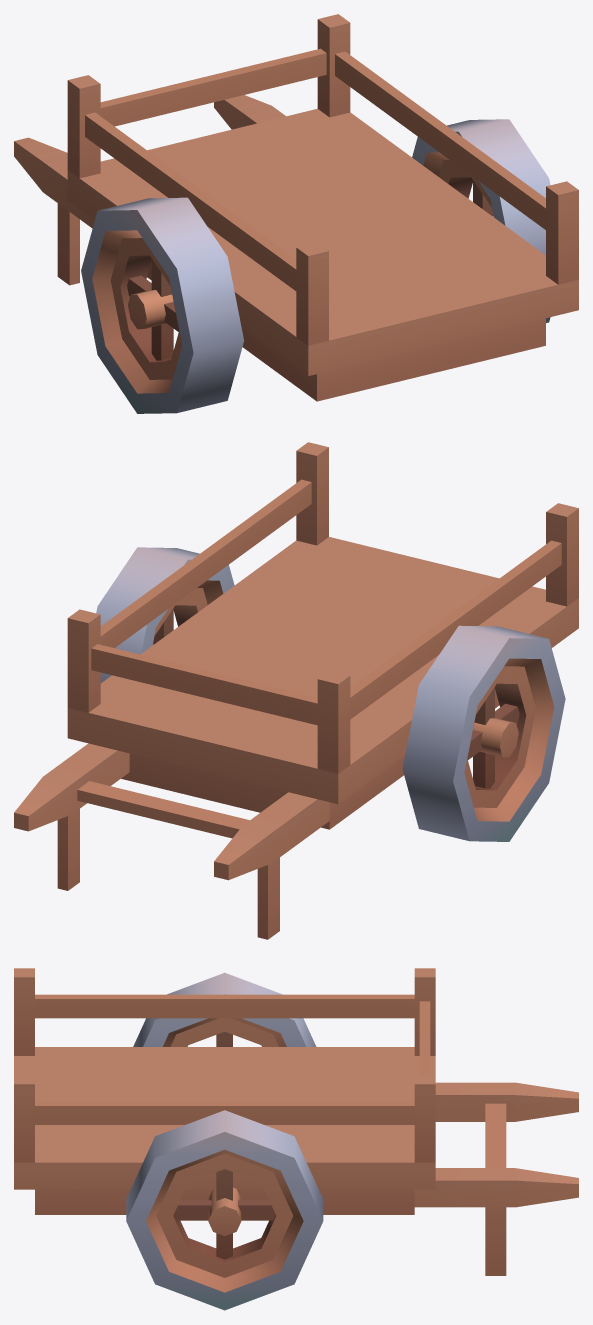
Rendered from cart.glb.
3 renders of one model, top to bottom at view 1: azimuth 30°, elevation 25°; view 2: azimuth 150°, elevation 25°; view 3: azimuth 270°, elevation 25°, orthographic. The views are drawn at different scales.
Visible parts, largest first — view 1: cart; view 2: cart; view 3: cart.
Part boxes in pixels (x1,y1,x2,y2): cart: [14, 14, 578, 413]; cart: [14, 442, 578, 939]; cart: [14, 968, 578, 1310].
Size of the model in its own units: 0.8931 by 0.5354 by 1.34.
1 material, 1 textured.
